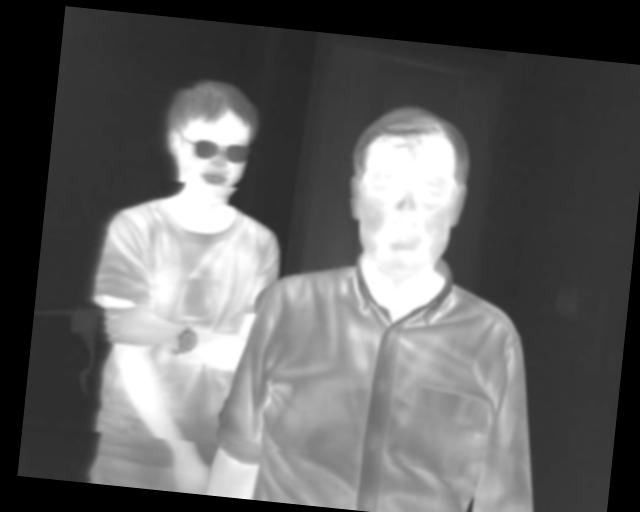face: (339, 99, 475, 289), (159, 75, 261, 209)
